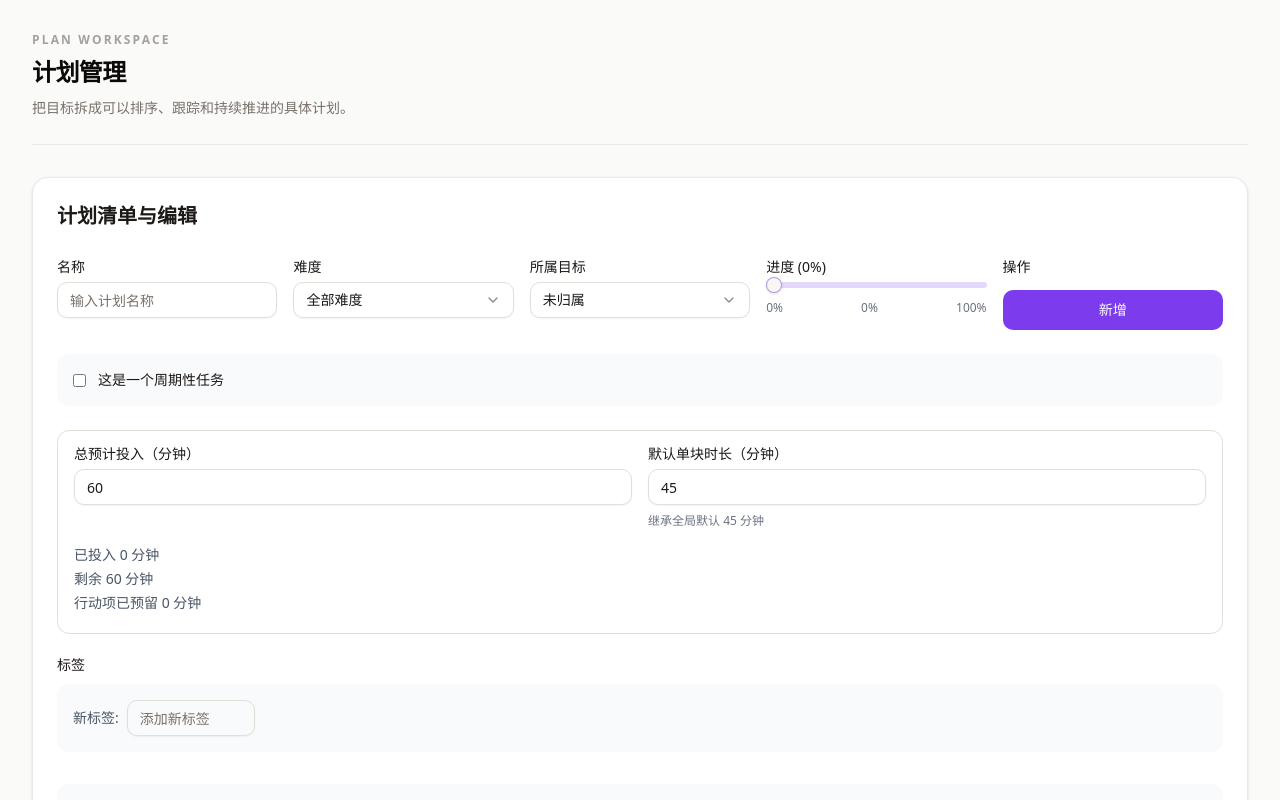
Test: PlansPage › keeps a new form open and shows the API error after a failed POST
Check: the heading "计划管理" is shown, box [32,55,126,88]
In the field labelled "名称": point(167, 300) [57,282,277,318], type "失败计划"
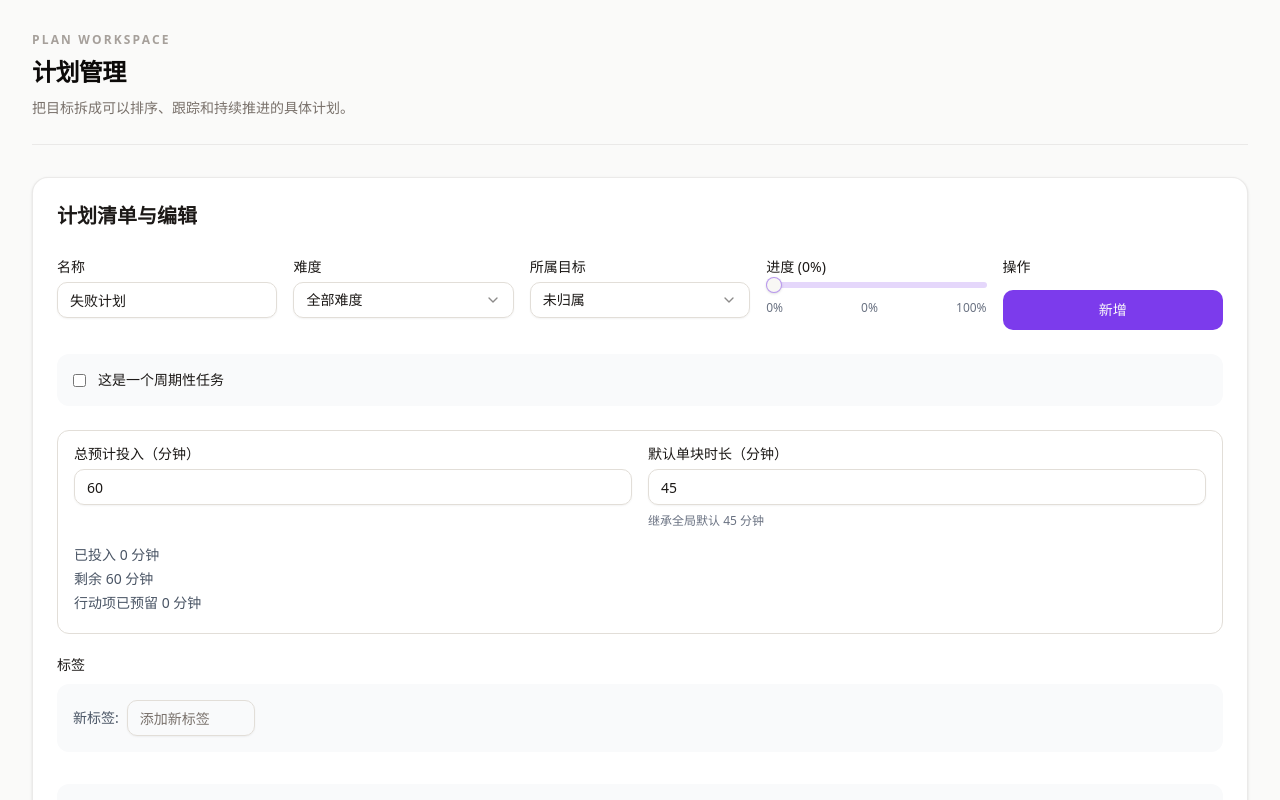
Click the button "新增": point(1113, 310) [1003,290,1223,330]
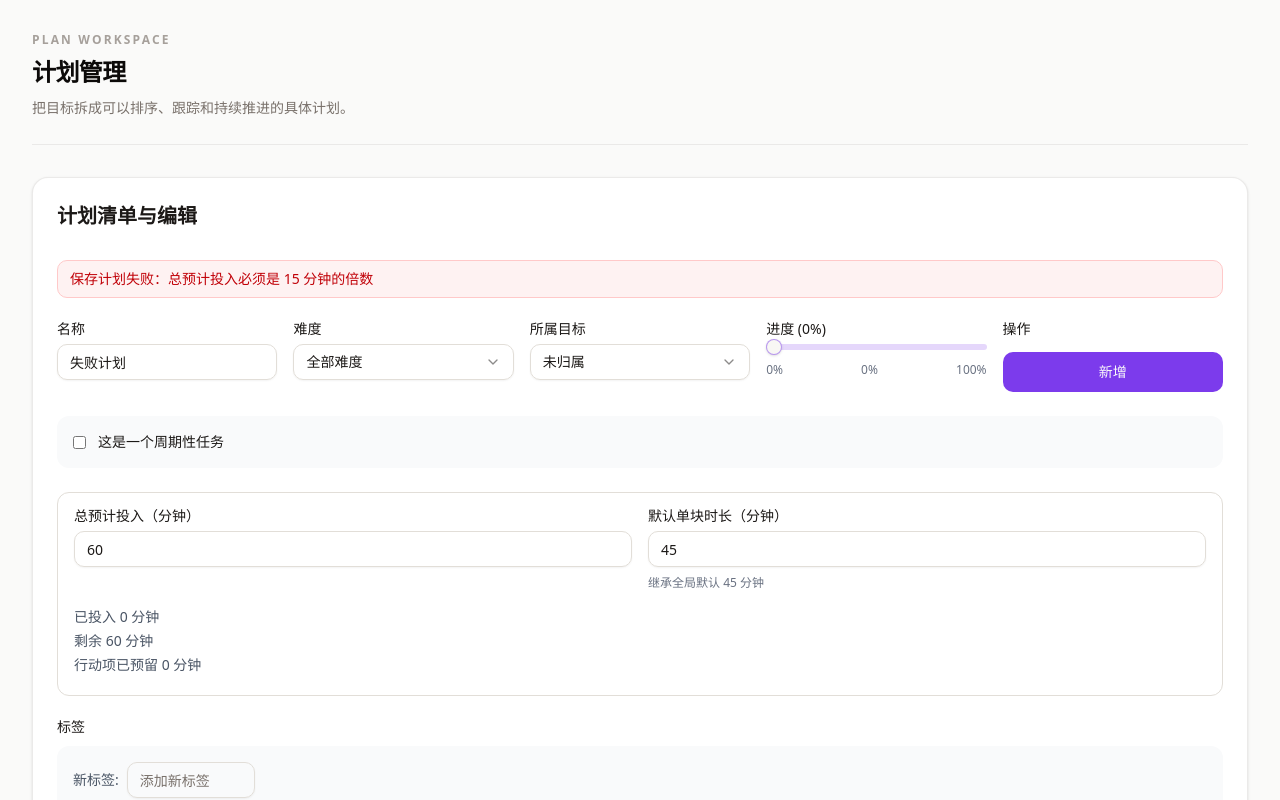
Check: the button "新增" is shown, box [1003,352,1223,392]
Check: the message shows "总预计投入必须是 15 分钟的倍数", box [70,269,373,288]
